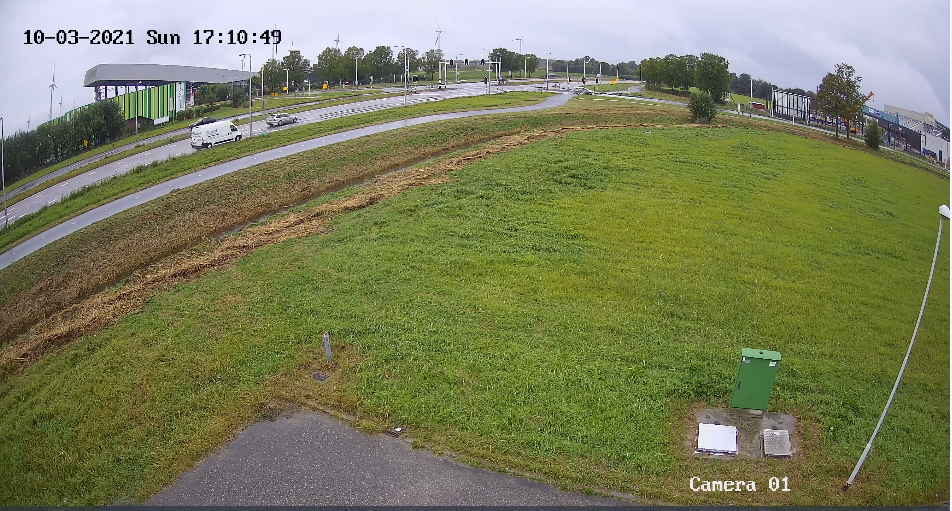werkbus: (184, 120, 246, 150)
